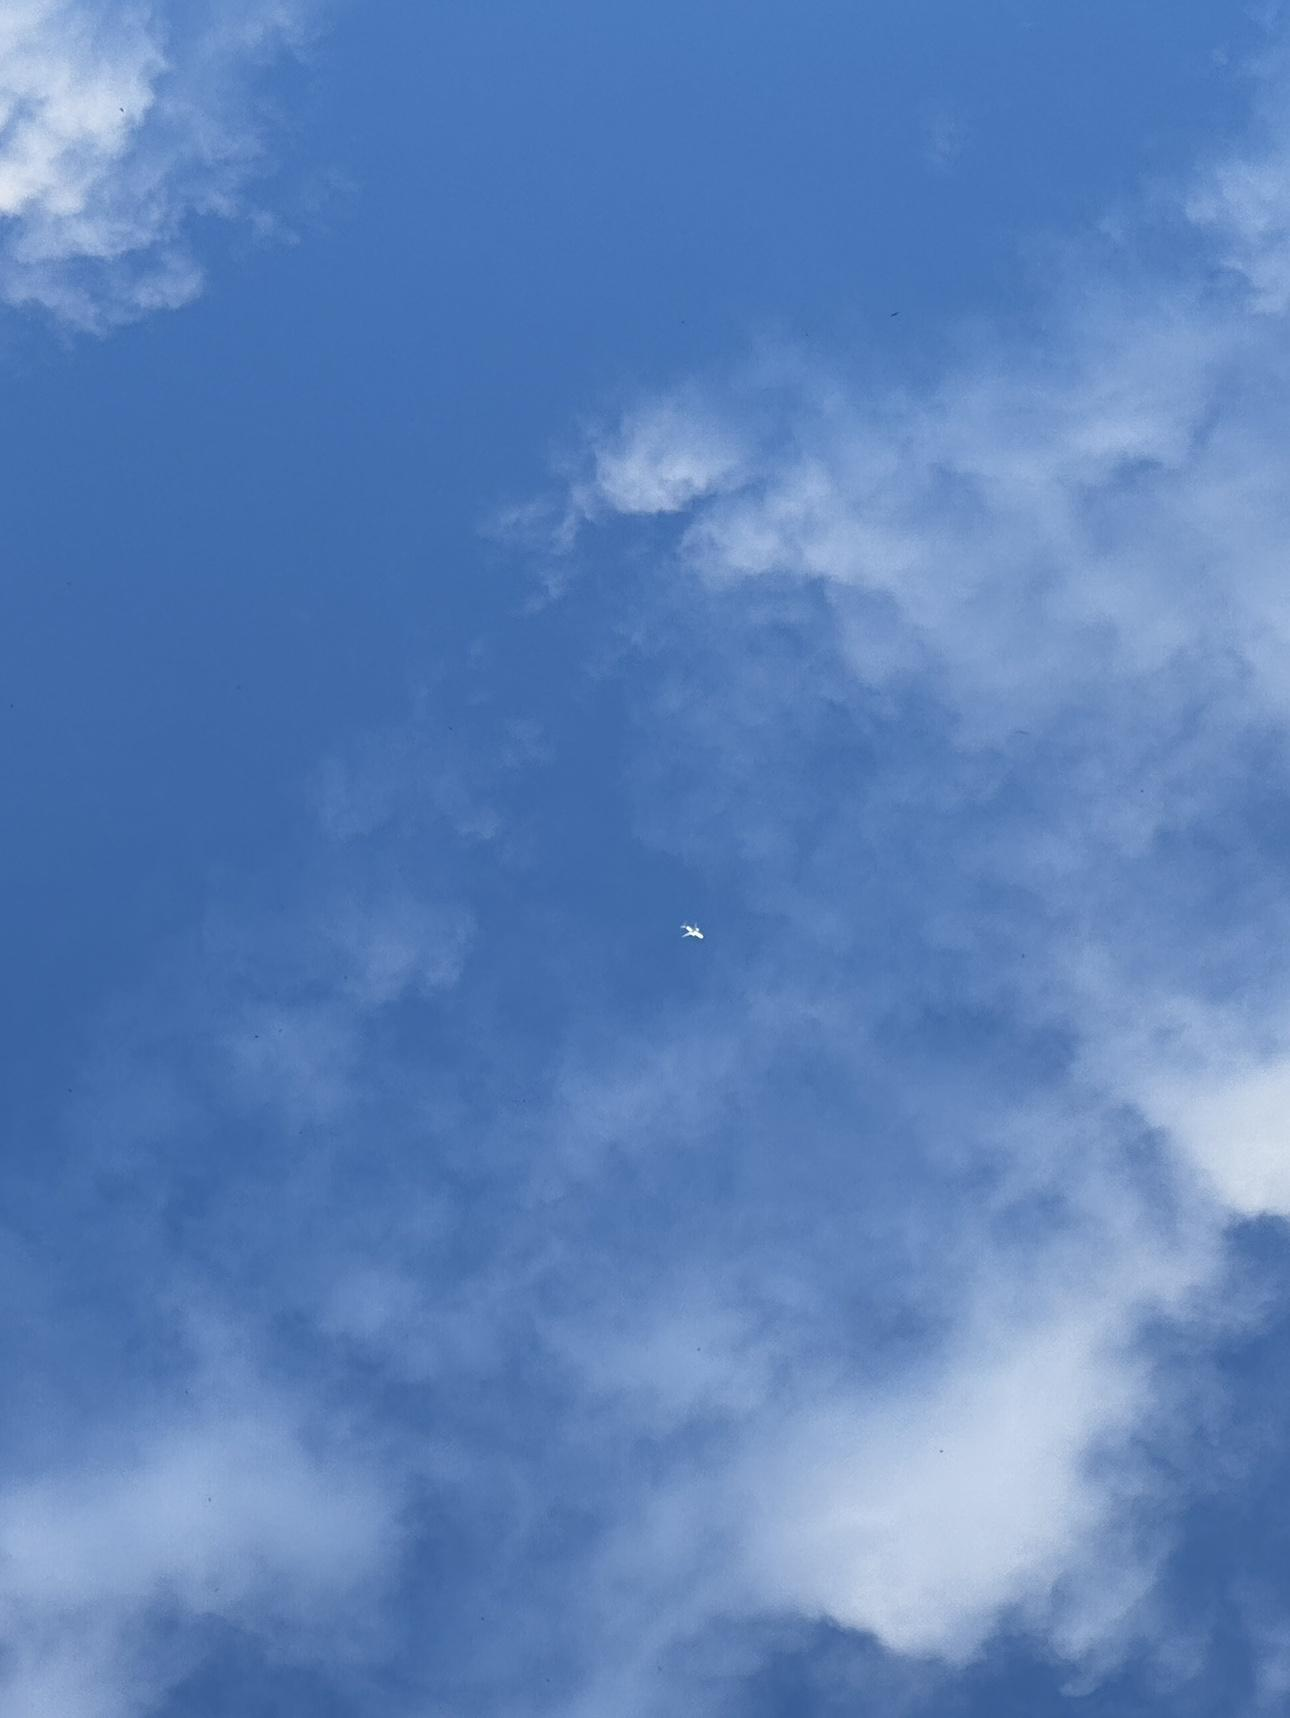Plane: (664, 909, 743, 955)
